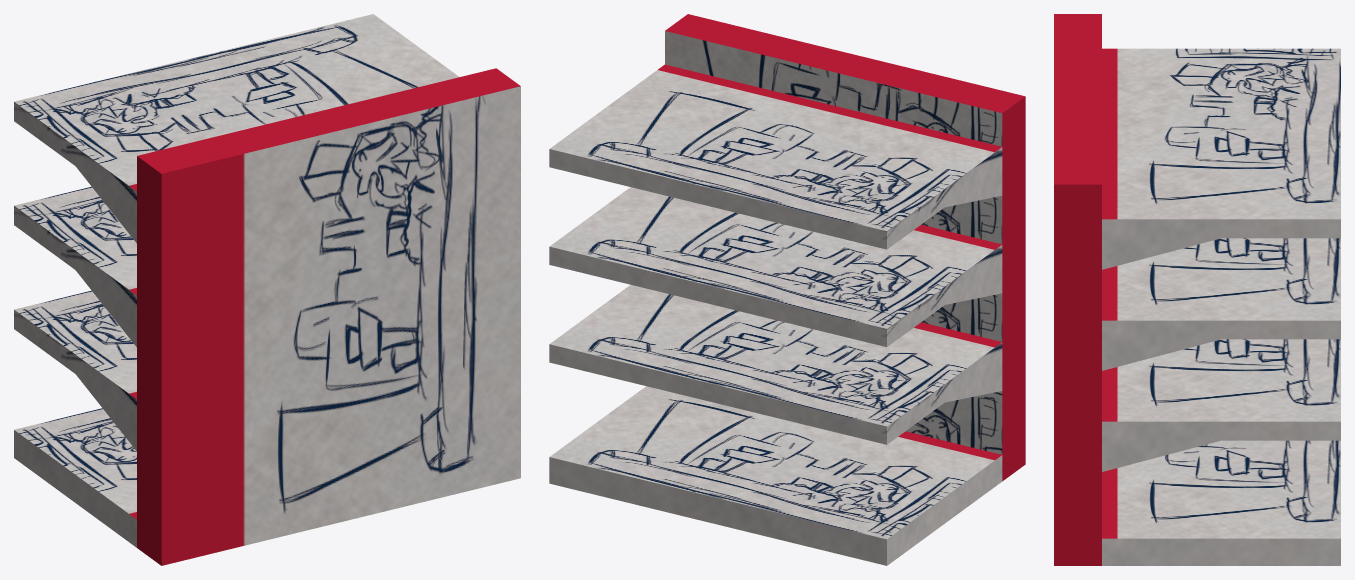
The model's file is shelf_Front_Back.fbx.
3 renders of one model, left to right at view 1: azimuth 30°, elevation 25°; view 2: azimuth 150°, elevation 25°; view 3: azimuth 270°, elevation 25°, orthographic. The views are drawn at different scales.
Parts seen in each view (by area): view 1: shelf_front; view 2: shelf_front; view 3: shelf_front.
Boxes of the visible parts, bbox=[...] form: shelf_front: bbox=[14, 14, 520, 565]; shelf_front: bbox=[549, 14, 1025, 565]; shelf_front: bbox=[1054, 14, 1340, 565].
Bounding box in the file's own units: 140 × 146 × 99.83.
